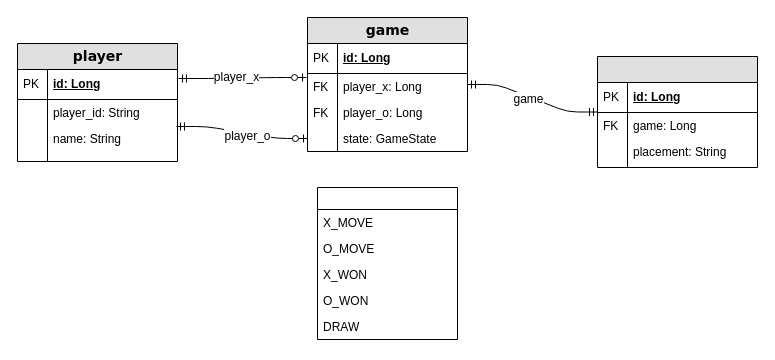
This 775x360 diagram has some shape labels left out. The box of each missing label's shape, as (x1, y1, x2, y2) in pixels:
board: (596, 56, 758, 168)
GameState: (316, 186, 458, 340)
